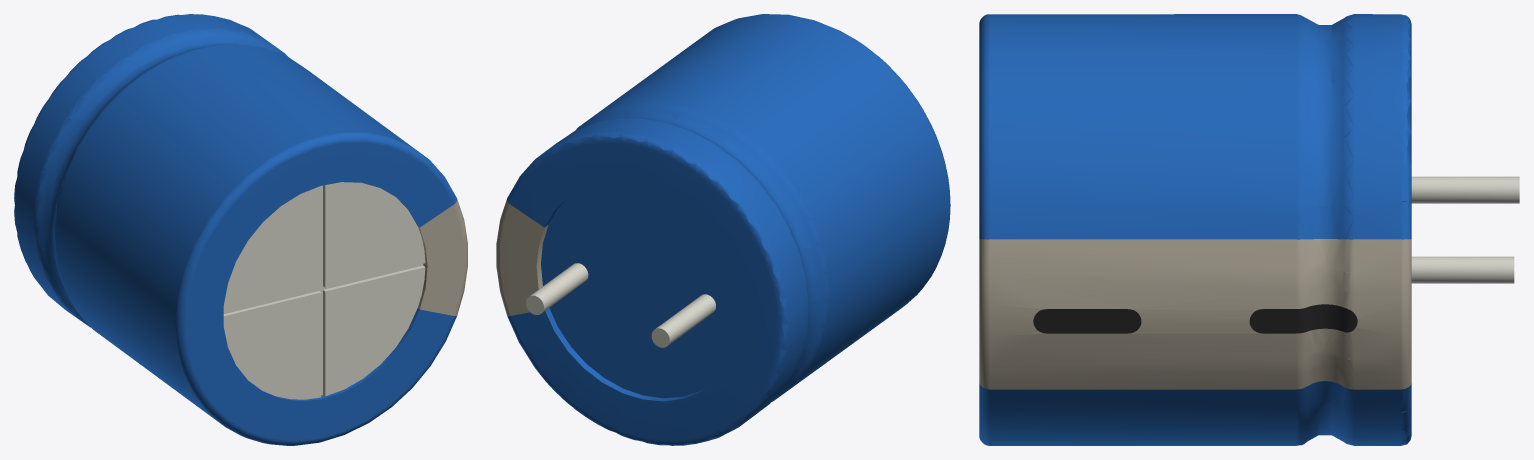
File: cp-radial-d8.0-p3.50.glb
3 views of the same model, side by side, from view 1: azimuth 30°, elevation 25°; view 2: azimuth 150°, elevation 25°; view 3: azimuth 270°, elevation 25° (orthographic). The views are drawn at different scales.
Parts seen in each view (by area): view 1: PLASTIC-BLUE-01, PIN-01, IC-LABEL-01; view 2: PLASTIC-BLUE-01, IC-LABEL-01, PIN-01; view 3: PLASTIC-BLUE-01, IC-LABEL-01, PIN-01, IC-BODY-EPOXY-04.
Boxes of the visible parts, box(x1,y1,x2,y2) form: PLASTIC-BLUE-01: box(14, 14, 457, 445); PIN-01: box(223, 182, 425, 399); IC-LABEL-01: box(418, 200, 467, 315); PLASTIC-BLUE-01: box(507, 14, 950, 445); IC-LABEL-01: box(496, 199, 548, 316); PIN-01: box(530, 263, 715, 345); PLASTIC-BLUE-01: box(979, 14, 1411, 445); IC-LABEL-01: box(979, 239, 1411, 389); PIN-01: box(1411, 176, 1519, 283); IC-BODY-EPOXY-04: box(1033, 304, 1357, 333).
Bounding box in the file's own units: 8 × 8 × 10.
